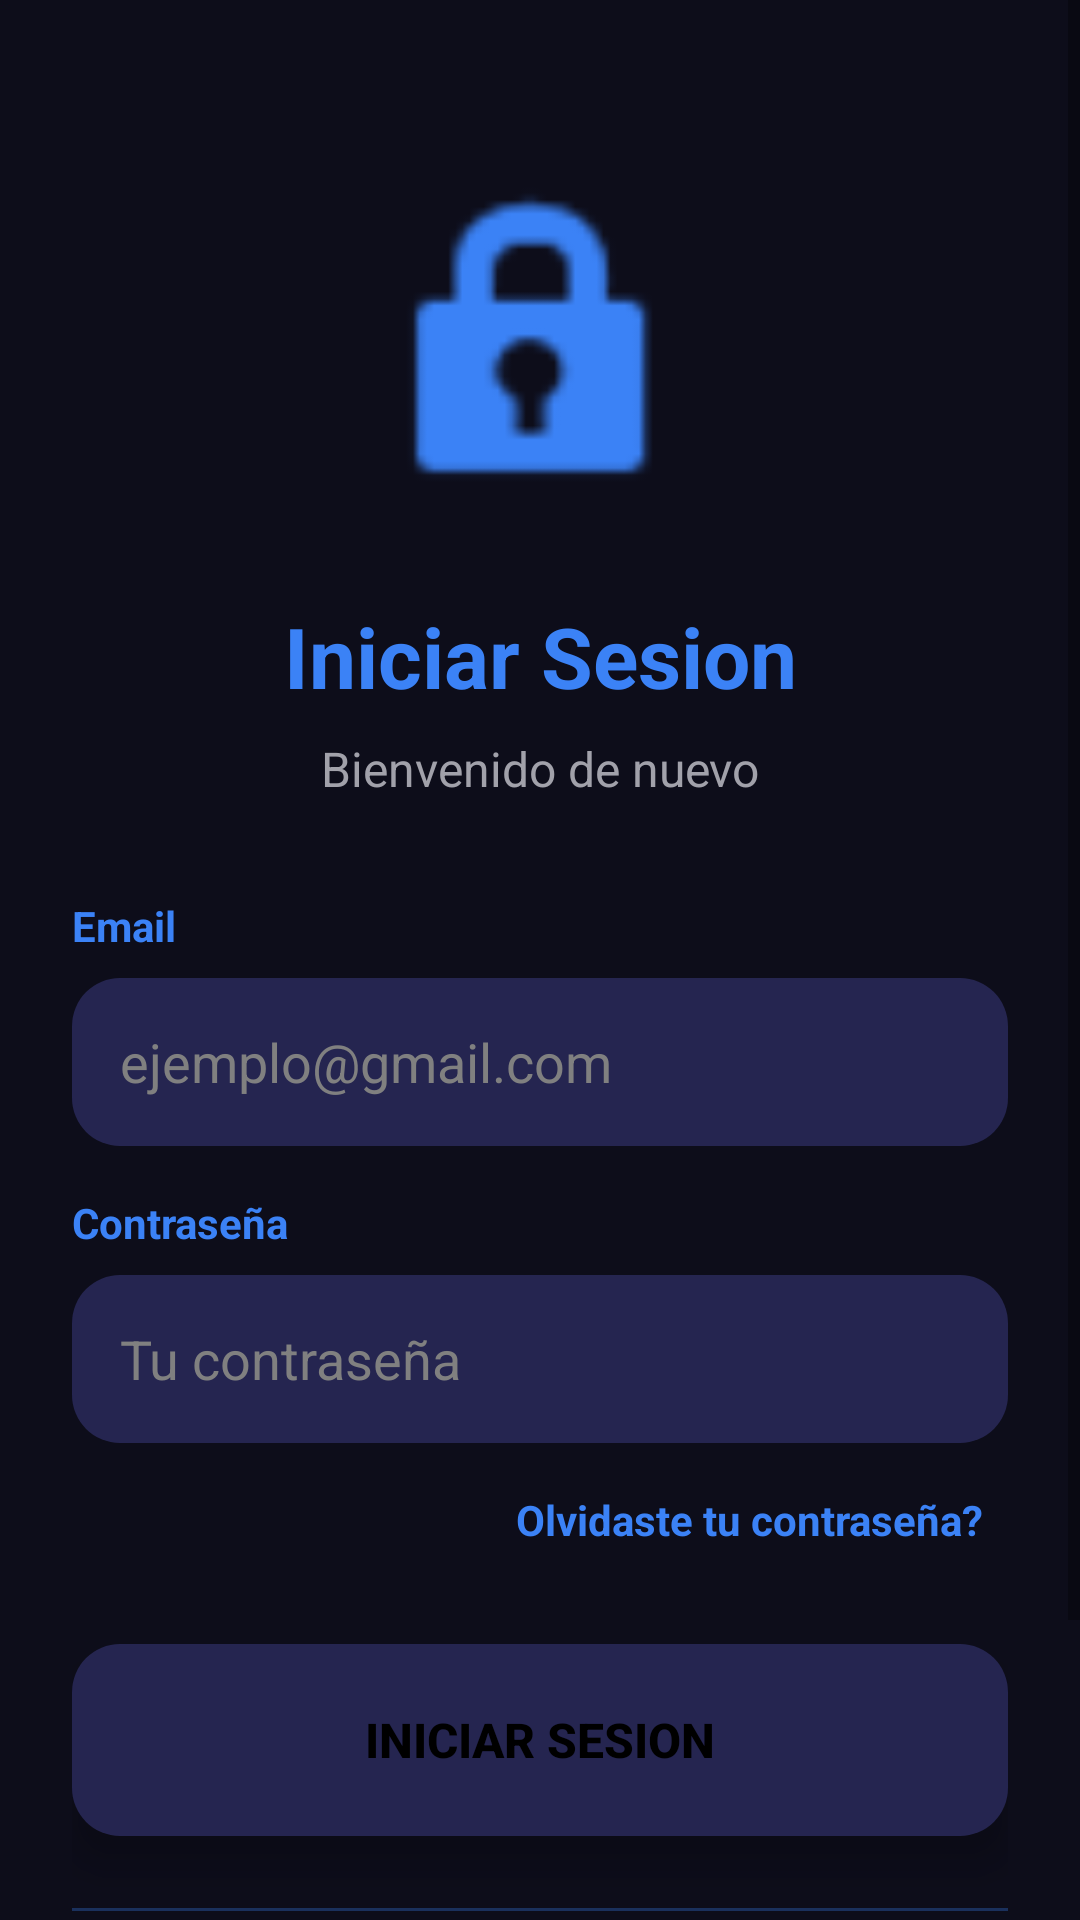

Where to tap for icons on this 1080px×1920px app screen, as (x=x, y=y):
Login: (x=531, y=336)
